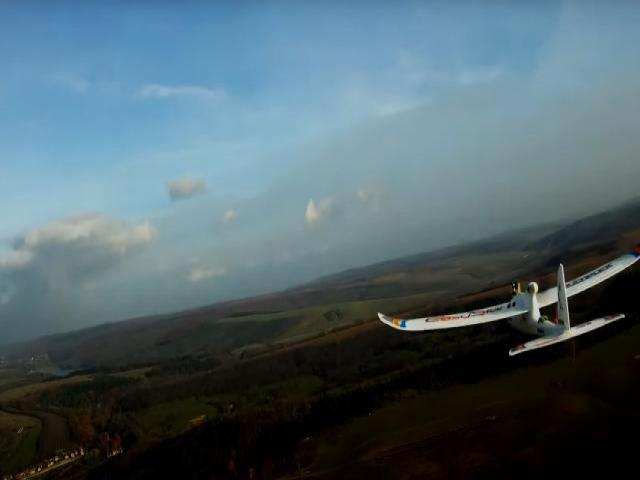iha: (370, 230, 640, 355)
